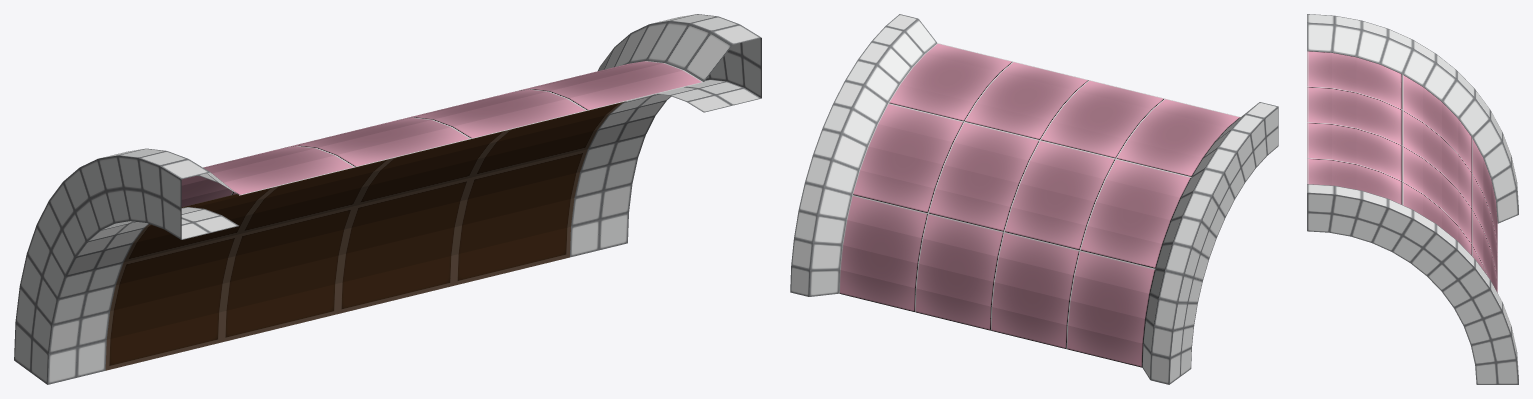
The model's file is GravitationalismCurve2.obj.
3 renders of one model, left to right at view 1: azimuth 30°, elevation 25°; view 2: azimuth 150°, elevation 25°; view 3: azimuth 270°, elevation 25°, orthographic. The views are drawn at different scales.
Parts seen in each view (by area): view 1: GravitationalismCurve2; view 2: GravitationalismCurve2; view 3: GravitationalismCurve2.
Boxes of the visible parts, box(x1,y1,x2,y2) form: GravitationalismCurve2: box(14, 14, 761, 384); GravitationalismCurve2: box(790, 14, 1278, 384); GravitationalismCurve2: box(1307, 14, 1518, 384).
Size of the model in its own units: 10 by 5 by 5.
